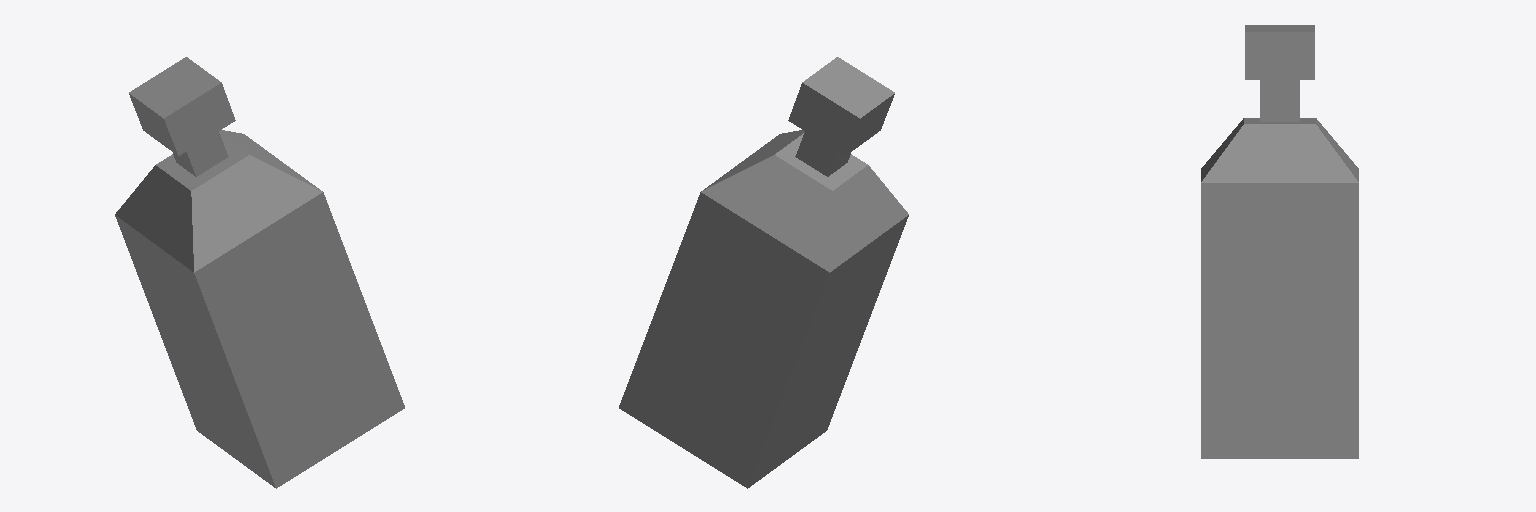
The model's file is spray.obj.
3 views of the same model, side by side, from view 1: azimuth 30°, elevation 25°; view 2: azimuth 150°, elevation 25°; view 3: azimuth 270°, elevation 25° (orthographic).
Parts seen in each view (by area): view 1: Box001; view 2: Box001; view 3: Box001.
Boxes of the visible parts, box(x1,y1,x2,y2) form: Box001: box(115, 57, 404, 488); Box001: box(619, 57, 908, 488); Box001: box(1201, 25, 1358, 458).
Size of the model in its own units: 15.97 by 27.66 by 10.